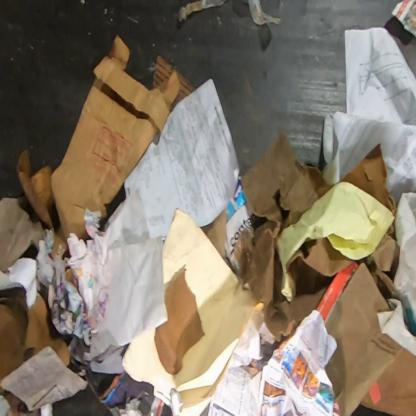cardboard: (50, 35, 180, 259), (324, 262, 406, 416), (17, 149, 61, 237), (359, 348, 415, 415), (153, 55, 196, 115), (200, 206, 228, 262)
soft_plastic: (178, 0, 227, 22), (246, 0, 281, 26)
